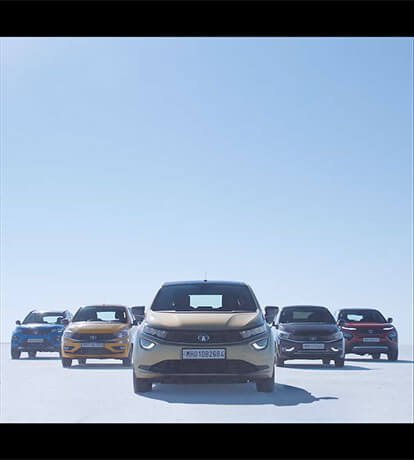car: (133, 266, 278, 398), (273, 293, 346, 370), (63, 297, 138, 371), (333, 303, 399, 365), (10, 308, 70, 361)
